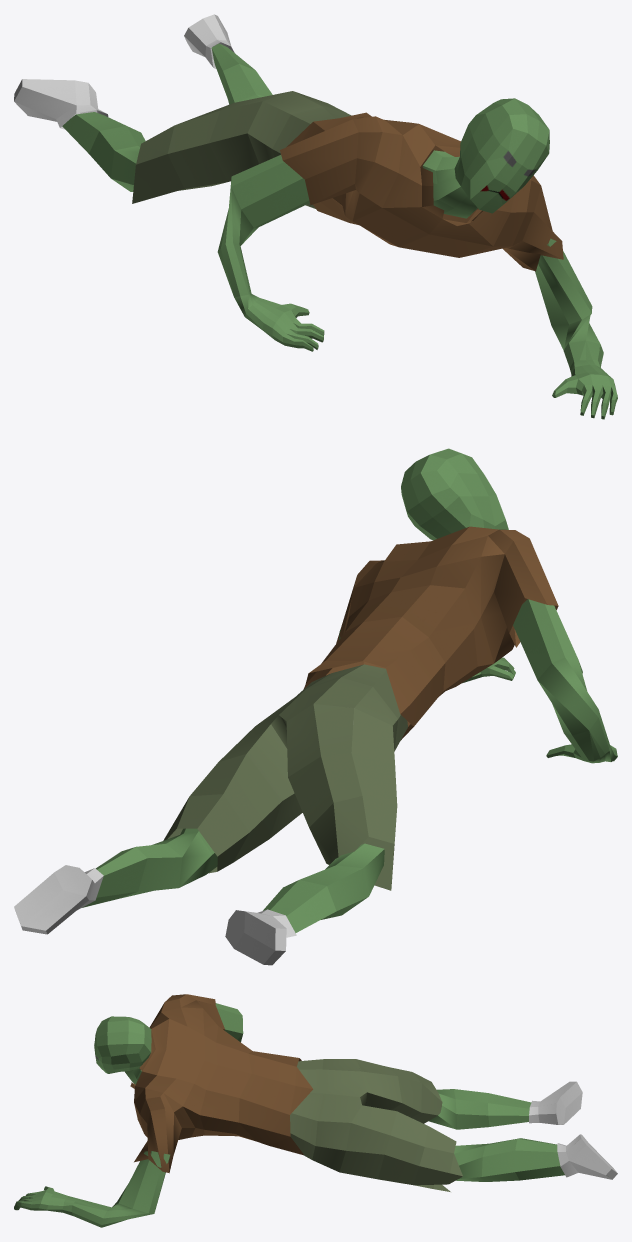
File: ZombieCrawl(127).obj
The picture shows the model from 3 angles, top to bottom: view 1: azimuth 30°, elevation 25°; view 2: azimuth 150°, elevation 25°; view 3: azimuth 270°, elevation 25°; orthographic projection. The views are drawn at different scales.
Visible parts, largest first — view 1: Object001; view 2: Object001; view 3: Object001.
Boxes of the visible parts, x1,y1,x2,y2 form: Object001: (14, 14, 617, 419); Object001: (14, 448, 617, 965); Object001: (14, 994, 617, 1227).
Size of the model in its own units: 27.66 by 23.15 by 67.1.
